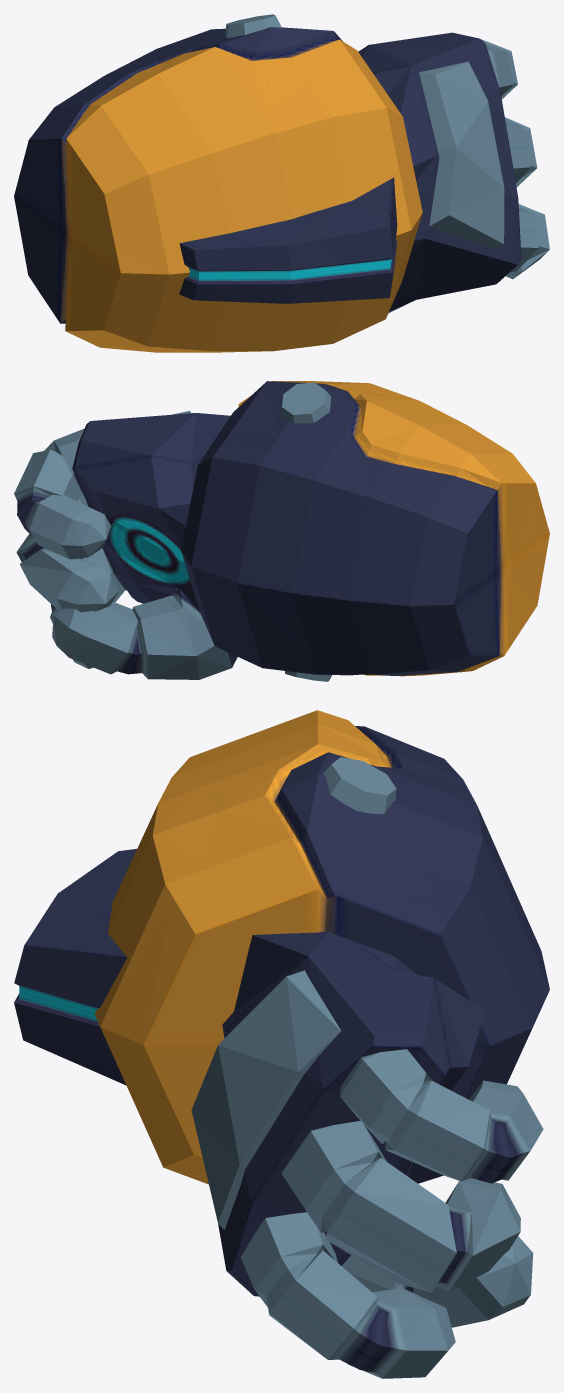
Rendered from Body_niujijia_shoubi_sui.FBX.
The picture shows the model from 3 angles, top to bottom: view 1: azimuth 30°, elevation 25°; view 2: azimuth 150°, elevation 25°; view 3: azimuth 270°, elevation 25°; orthographic projection. The views are drawn at different scales.
Visible parts, largest first — view 1: L_xiaobi_shou_Part_17, L_xiaobi_shou_Part_15, L_xiaobi_shou_Part_8, L_xiaobi_shou_Part_20, L_xiaobi_shou_Part_13, L_xiaobi_shou_Part_25, L_xiaobi_shou_Part_7, L_xiaobi_shou_Part_16, L_xiaobi_shou_Part_11, L_xiaobi_shou_Part_6, L_xiaobi_shou_Part_27, L_xiaobi_shou_Part_1 (+9 smaller); view 2: L_xiaobi_shou_Part_19, L_xiaobi_shou_Part_15, L_xiaobi_shou_Part_27, L_xiaobi_shou_Part_10, L_xiaobi_shou_Part_16, L_xiaobi_shou_Part_3, L_xiaobi_shou_Part_28, L_xiaobi_shou_Part_12, L_xiaobi_shou_Part_7, L_xiaobi_shou_Part_24, L_xiaobi_shou_Part_13, L_xiaobi_shou_Part_22 (+8 smaller); view 3: L_xiaobi_shou_Part_27, L_xiaobi_shou_Part_6, L_xiaobi_shou_Part_7, L_xiaobi_shou_Part_11, L_xiaobi_shou_Part_13, L_xiaobi_shou_Part_8, L_xiaobi_shou_Part_10, L_xiaobi_shou_Part_28, L_xiaobi_shou_Part_16, L_xiaobi_shou_Part_2, L_xiaobi_shou_Part_29, L_xiaobi_shou_Part_15 (+6 smaller).
Part boxes in pixels (x1,y1,x2,y2): L_xiaobi_shou_Part_17: [115, 121, 352, 303]; L_xiaobi_shou_Part_15: [26, 80, 229, 260]; L_xiaobi_shou_Part_8: [261, 81, 396, 299]; L_xiaobi_shou_Part_20: [25, 220, 208, 352]; L_xiaobi_shou_Part_13: [373, 32, 497, 140]; L_xiaobi_shou_Part_25: [111, 259, 332, 351]; L_xiaobi_shou_Part_7: [412, 186, 549, 296]; L_xiaobi_shou_Part_16: [104, 20, 268, 103]; L_xiaobi_shou_Part_11: [238, 14, 379, 89]; L_xiaobi_shou_Part_6: [332, 84, 454, 314]; L_xiaobi_shou_Part_27: [481, 39, 537, 210]; L_xiaobi_shou_Part_1: [345, 195, 459, 312]; L_xiaobi_shou_Part_19: [279, 463, 447, 590]; L_xiaobi_shou_Part_15: [410, 409, 546, 560]; L_xiaobi_shou_Part_27: [14, 432, 119, 623]; L_xiaobi_shou_Part_10: [188, 443, 290, 575]; L_xiaobi_shou_Part_16: [282, 389, 429, 478]; L_xiaobi_shou_Part_3: [280, 557, 438, 647]; L_xiaobi_shou_Part_28: [85, 423, 225, 552]; L_xiaobi_shou_Part_12: [277, 597, 451, 675]; L_xiaobi_shou_Part_7: [50, 548, 179, 668]; L_xiaobi_shou_Part_24: [200, 545, 297, 669]; L_xiaobi_shou_Part_13: [66, 411, 230, 498]; L_xiaobi_shou_Part_22: [87, 602, 237, 679]; L_xiaobi_shou_Part_27: [251, 1065, 543, 1292]; L_xiaobi_shou_Part_6: [36, 878, 290, 1109]; L_xiaobi_shou_Part_7: [205, 1165, 533, 1378]; L_xiaobi_shou_Part_11: [204, 759, 424, 931]; L_xiaobi_shou_Part_13: [238, 940, 470, 1099]; L_xiaobi_shou_Part_8: [14, 789, 233, 1045]; L_xiaobi_shou_Part_10: [435, 815, 540, 1033]; L_xiaobi_shou_Part_28: [284, 897, 518, 1099]; L_xiaobi_shou_Part_16: [229, 721, 462, 816]; L_xiaobi_shou_Part_2: [196, 1074, 472, 1178]; L_xiaobi_shou_Part_29: [407, 1013, 529, 1183]; L_xiaobi_shou_Part_15: [184, 710, 424, 774].
Size of the model in its own units: 45.46 by 30.37 by 32.
